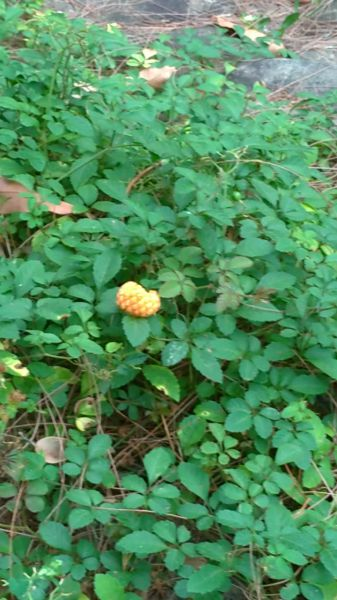eggs: (112, 275, 162, 318)
